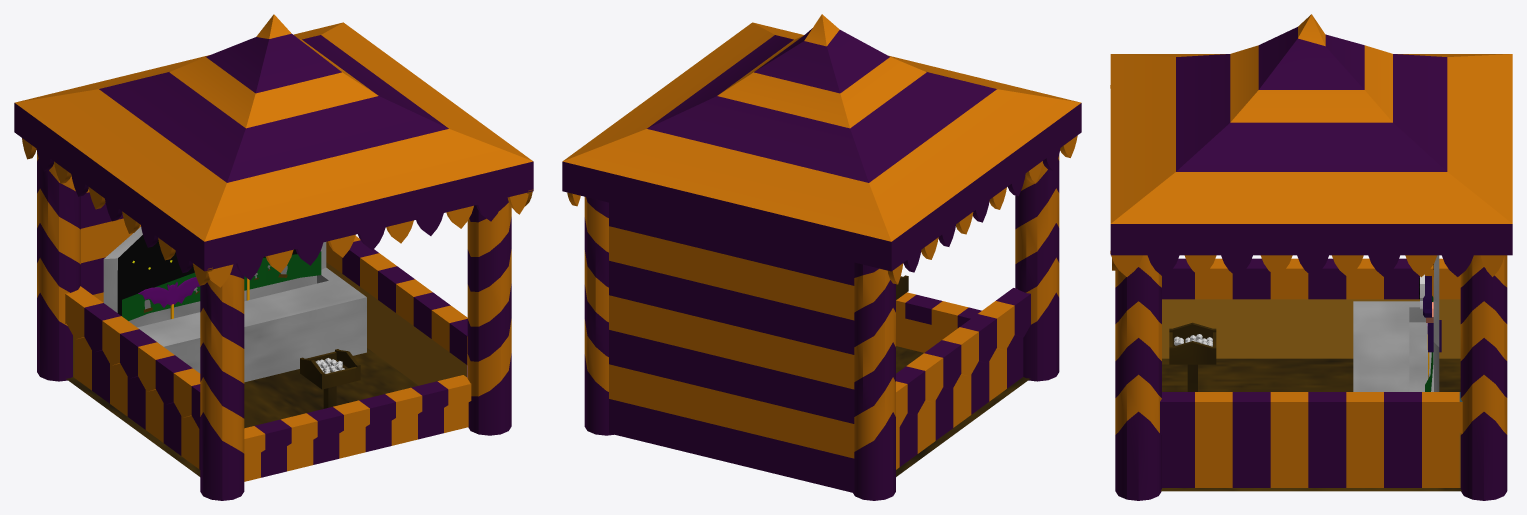
The model's file is BarracaHallowen.fbx.
3 renders of one model, left to right at view 1: azimuth 30°, elevation 25°; view 2: azimuth 150°, elevation 25°; view 3: azimuth 270°, elevation 25°, orthographic. The views are drawn at different scales.
Parts seen in each view (by area): view 1: BarraquinhaHalloween, Cenario, Bandeirashalloween, Bola, AlvoMorcego; view 2: BarraquinhaHalloween, Bandeirashalloween; view 3: BarraquinhaHalloween, Cenario, Bandeirashalloween, Bola, AlvoBruxa.
Boxes of the visible parts, left/top/right/bottom form: BarraquinhaHalloween: left=14, top=14, right=533, bottom=500; Cenario: left=103, top=227, right=366, bottom=382; Bandeirashalloween: left=22, top=138, right=533, bottom=287; Bola: left=300, top=349, right=360, bottom=389; AlvoMorcego: left=138, top=277, right=199, bottom=318; BarraquinhaHalloween: left=562, top=14, right=1081, bottom=500; Bandeirashalloween: left=567, top=135, right=1077, bottom=284; BarraquinhaHalloween: left=1110, top=14, right=1512, bottom=500; Cenario: left=1353, top=255, right=1439, bottom=391; Bandeirashalloween: left=1110, top=85, right=1504, bottom=277; Bola: left=1169, top=322, right=1216, bottom=364; AlvoBruxa: left=1423, top=276, right=1441, bottom=378.
Bounding box in the file's own units: 592 × 689 × 592.
1 material, 1 textured.
